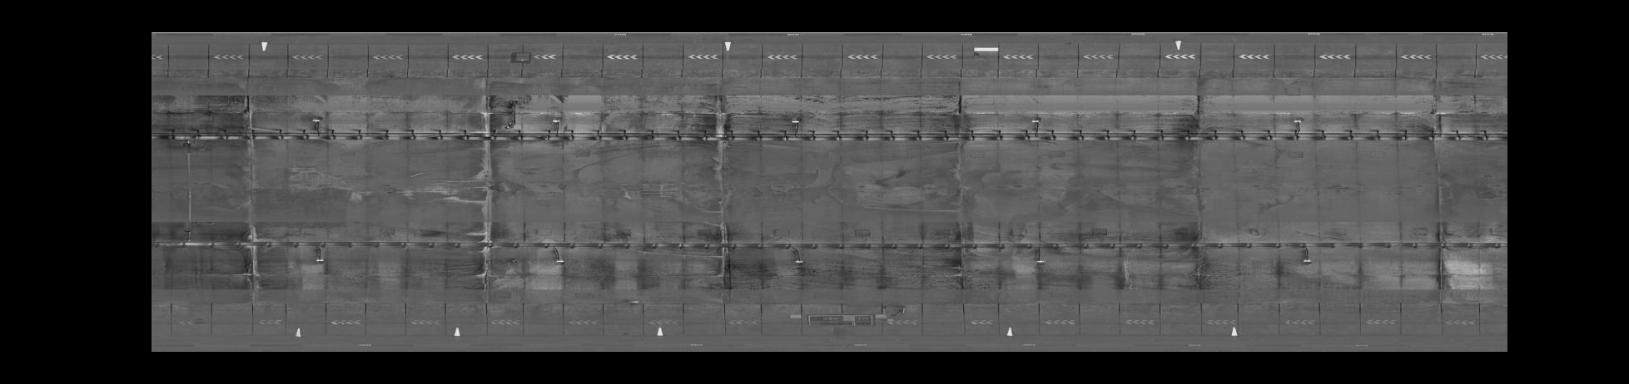light: (310, 254, 333, 268), (546, 117, 566, 127), (550, 256, 569, 266), (309, 115, 325, 126), (1299, 255, 1315, 266), (789, 257, 808, 266), (1031, 256, 1047, 266), (1288, 117, 1306, 126), (789, 117, 804, 127), (1026, 117, 1042, 125)
